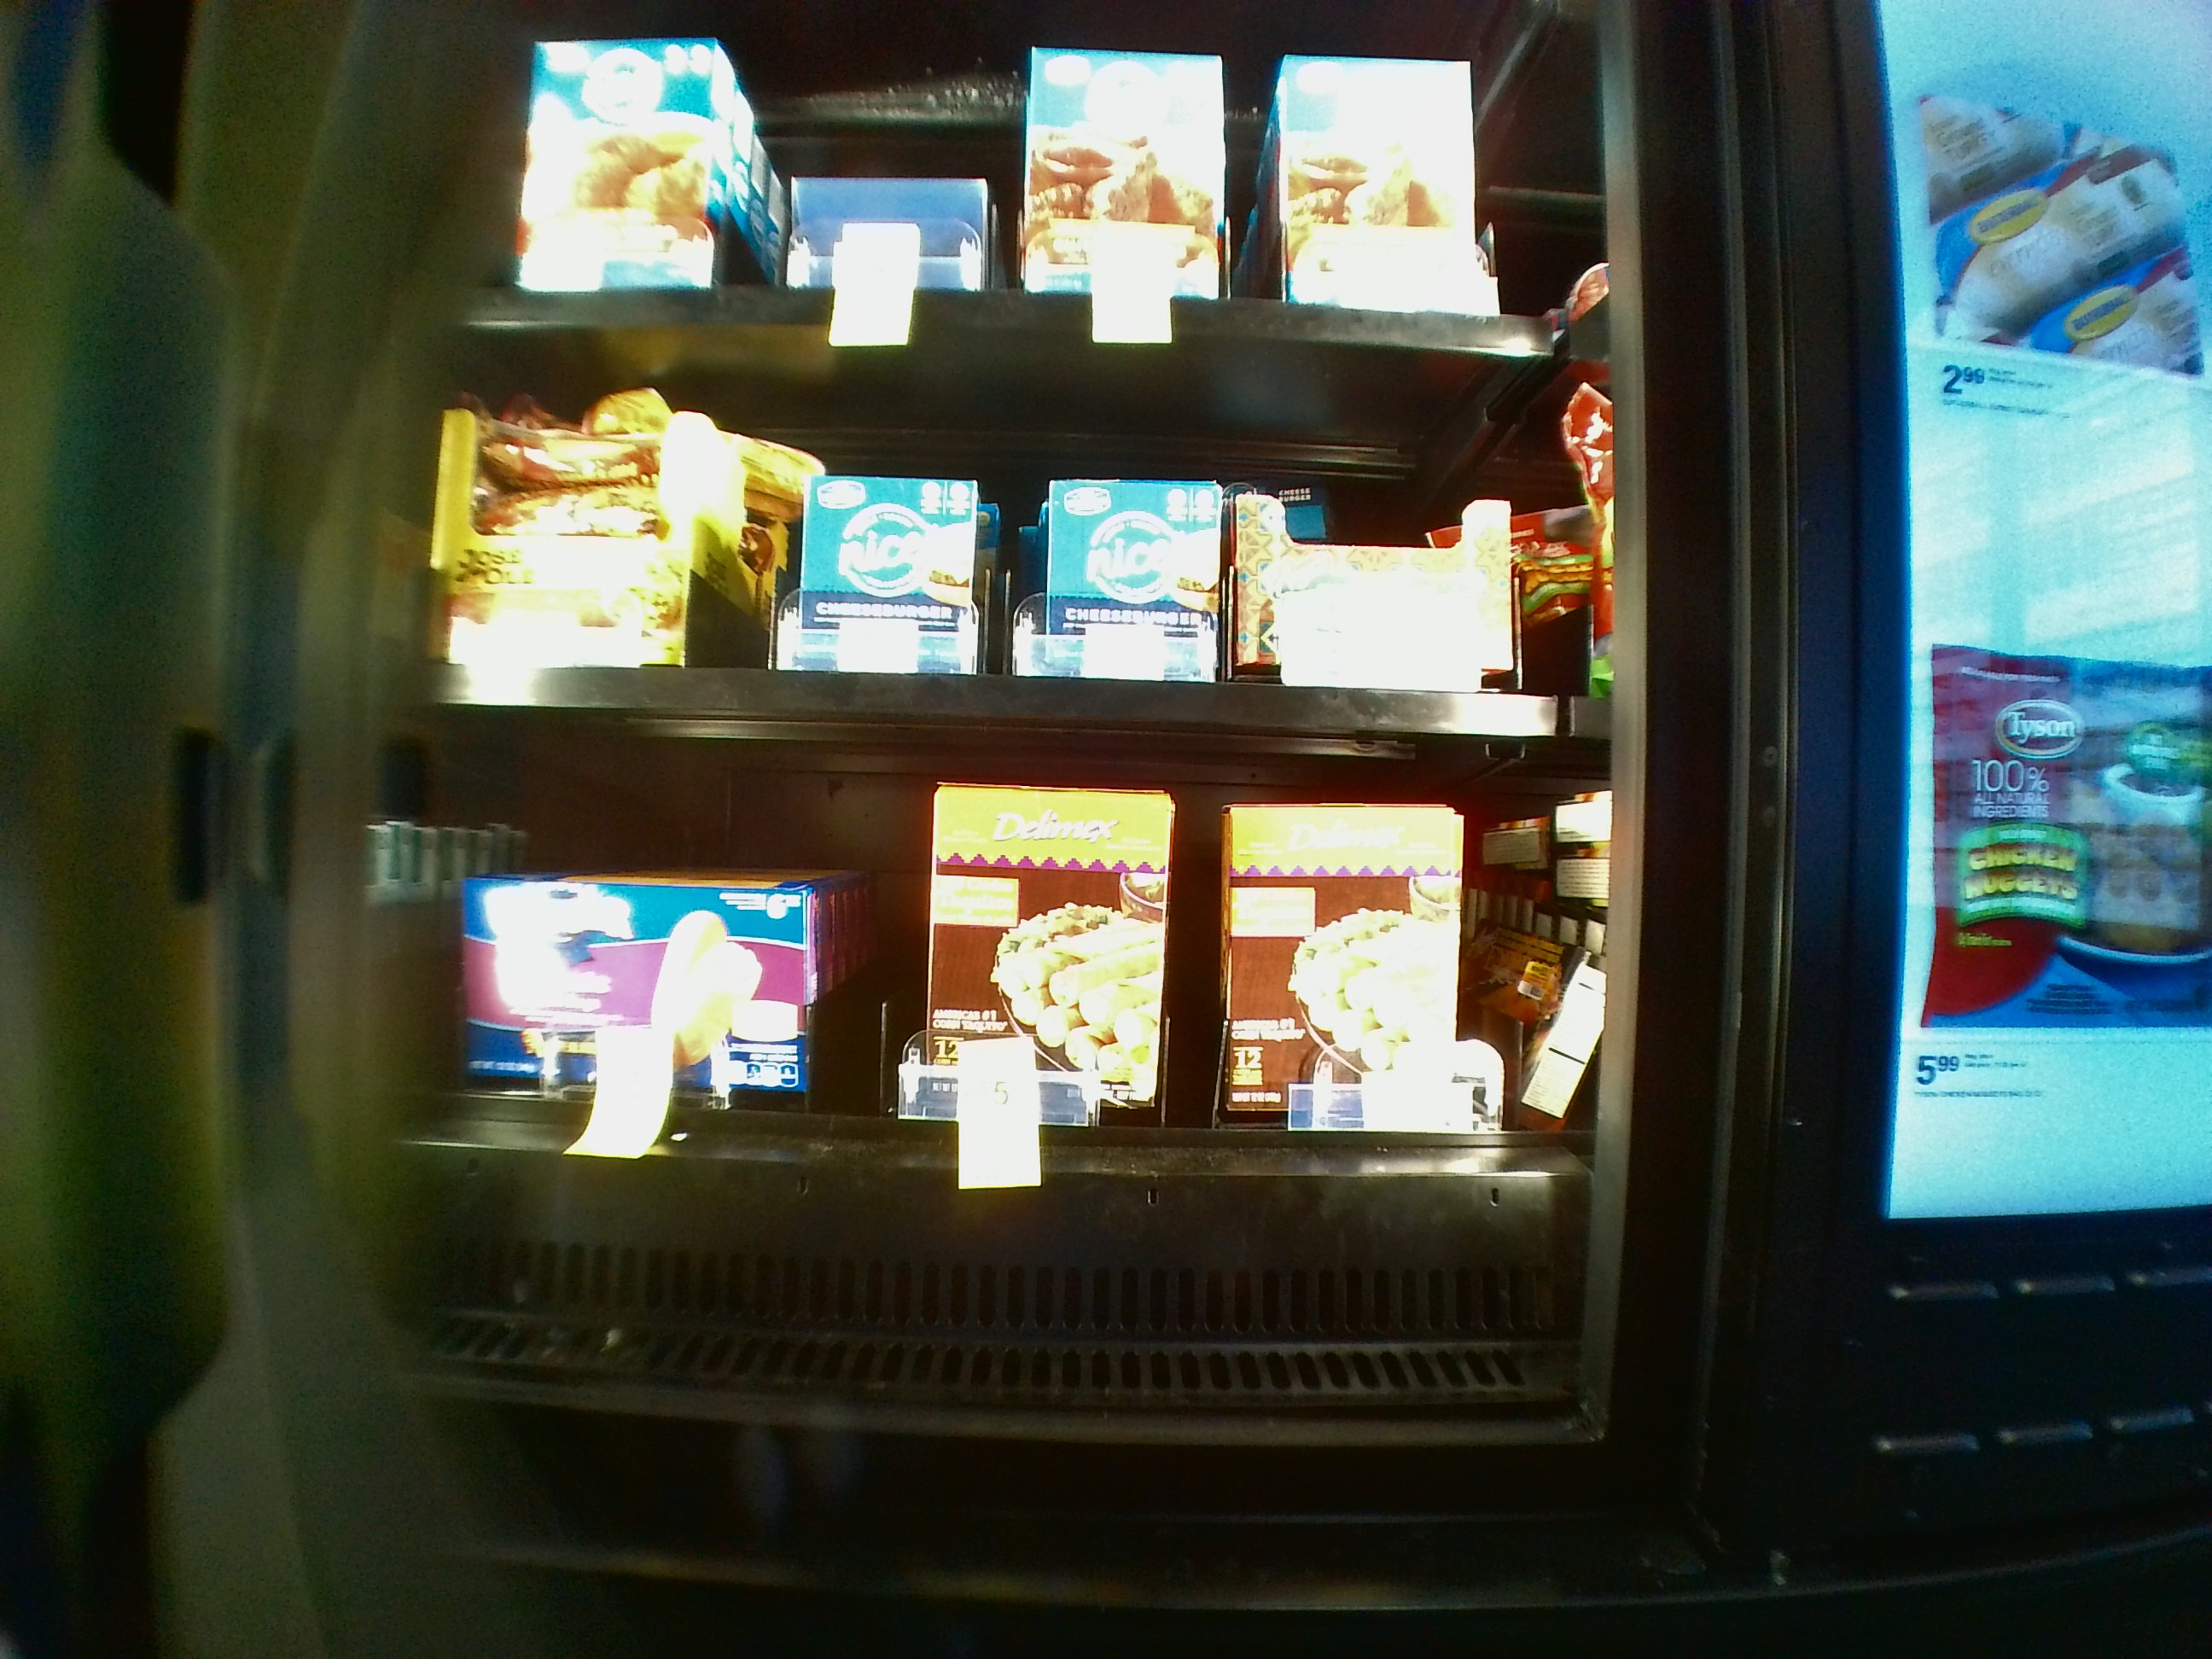shelf: (415, 751, 1588, 1424), (406, 322, 1609, 737)
